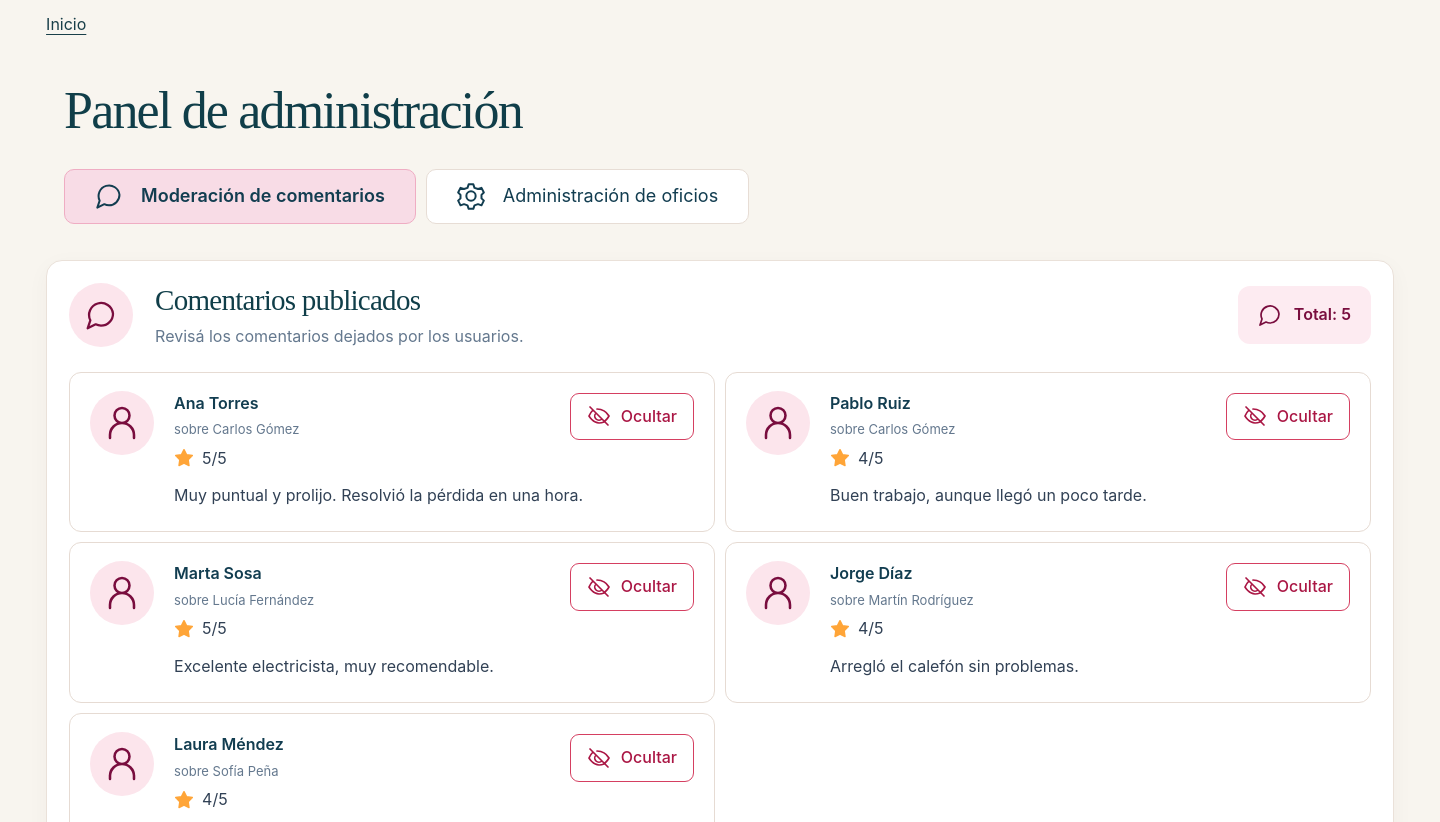
Moderación de comentarios › no permite confirmar sin motivo
Click the button with aria-label "Ocultar comentario de Ana Torres" at (632, 416), box [570,392,694,440]
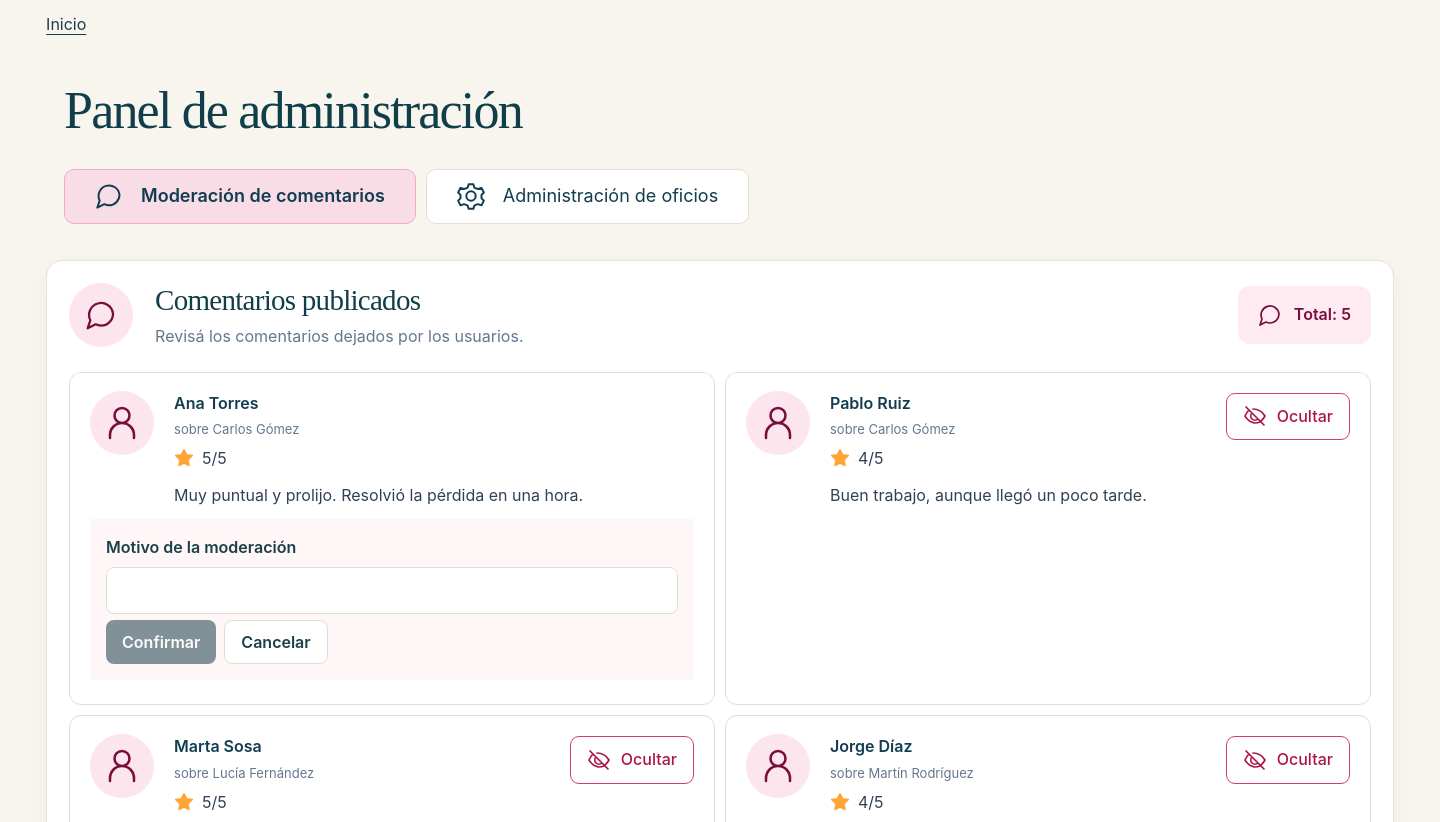
Now the button "Confirmar" is disabled, box [106,620,216,664]
